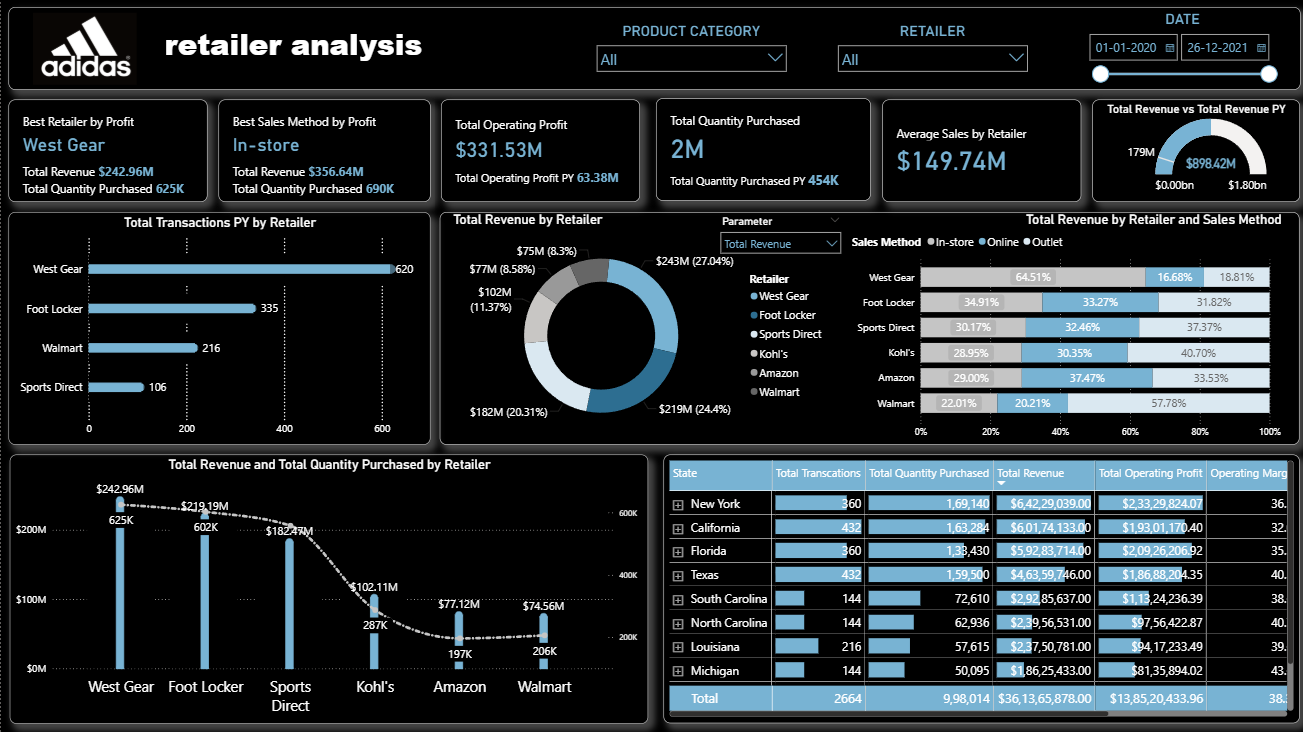

This screenshot's page, from the dashboard's own definition file:
{"tool":"powerbi","page":{"name":"Retailer Analysis Dark","canvas":[1920,1080],"ordinal":9},"visuals":[{"type":"shape","box":[644.3,314.9,1261.8,341.7],"z":0},{"type":"lineStackedColumnComboChart","fields":{"Y":["Measures Table.Total Revenue"],"Y2":["Measures Table.Total Quantity Purchased"],"Category":["Adidas Sales Data.Retailer"]},"box":[12.3,672,936.5,395.2],"z":1000},{"type":"shape","box":[10.3,14.4,1895.7,121.4],"z":2000},{"type":"cardVisual","fields":{"Data":["Min(Adidas Sales Data.Retailer)"]},"box":[10.3,150.3,292.3,150.3],"z":3000},{"type":"cardVisual","fields":{"Data":["Measures Table.Average Sales by Retailer"]},"box":[1293.1,150.4,291.6,150.4],"z":4000},{"type":"gauge","title":"Total Revenue vs Total Revenue PY","fields":{"Y":["Measures Table.Total Revenue"],"TargetValue":["Measures Table.Total Revenue PY"]},"box":[1601.3,150.4,304.5,150.4],"z":5000},{"type":"textbox","box":[234.6,32.9,526.9,88.5],"z":6000},{"type":"slicer","title":"RETAILER","fields":{"Values":["Adidas Sales Data.Retailer"]},"box":[1218.5,37,298.5,82.3],"z":7000},{"type":"slicer","title":"PRODUCT CATEGORY","fields":{"Values":["Adidas Sales Data.Product Category"]},"box":[864.5,37,298.5,82.3],"z":8000},{"type":"slicer","title":"DATE","fields":{"Values":["DateTable.Date"]},"box":[1584.9,20.6,298.5,113.2],"z":9000},{"type":"slicer","fields":{"Values":["Parameter.Parameter"]},"box":[1045.6,314.9,197.6,72],"z":10000},{"type":"donutChart","fields":{"Y":["Measures Table.Total Revenue"],"Category":["Adidas Sales Data.Retailer"]},"box":[658.7,314.9,559.9,341.7],"z":11000},{"type":"cardVisual","fields":{"Data":["Measures Table.Total Quantity Purchased"]},"box":[961.2,148.2,314.9,150.3],"z":12000},{"type":"hundredPercentStackedBarChart","fields":{"Y":["Measures Table.Total Revenue"],"Category":["Adidas Sales Data.Retailer"],"Series":["Adidas Sales Data.Sales Method"]},"box":[1243.2,314.9,640.1,341.7],"z":13000},{"type":"barChart","fields":{"Y":["Measures Table.Total Transactions PY"],"Category":["Adidas Sales Data.Retailer"]},"box":[10.3,314.9,619,341.7],"z":14000},{"type":"cardVisual","fields":{"Data":["Min(Adidas Sales Data.Sales Method)"]},"box":[319,150.3,310.8,150.3],"z":15000},{"type":"pivotTable","title":"Top 10 States by Measures ","fields":{"Rows":["Adidas Sales Data.State","Adidas Sales Data.Retailer","Adidas Sales Data.Sales Method"],"Values":["Measures Table.Total Transcations","Measures Table.Total Quantity Purchased","Measures Table.Total Revenue","Measures Table.Total Operating Profit","Measures Table.Operating Margin %","SparklineData(Measures Table.Total Operating Profit_[DateTable.Year Month])"]},"box":[972.2,671.3,933.6,394.4],"z":16000},{"type":"image","box":[10.3,18.5,224.4,115.3],"z":17000},{"type":"cardVisual","fields":{"Data":["Measures Table.Total Operating Profit"]},"box":[646.3,150.3,292.3,150.3],"z":18000}]}

Visuals, with their boxes in screenshot pixels (x1, y1, x2, y2), scaled from the page's 1920x1080 canvas onto the 1303x732 screenshot:
shape: locate(437, 213, 1294, 445)
lineStackedColumnComboChart - Measures Table.Total Revenue x Measures Table.Total Quantity Purchased: locate(8, 455, 644, 723)
shape: locate(7, 10, 1293, 92)
cardVisual - Min(Adidas Sales Data.Retailer): locate(7, 102, 205, 204)
cardVisual - Measures Table.Average Sales by Retailer: locate(878, 102, 1075, 204)
"Total Revenue vs Total Revenue PY" gauge: locate(1087, 102, 1293, 204)
textbox: locate(159, 22, 517, 82)
"RETAILER" slicer: locate(827, 25, 1030, 81)
"PRODUCT CATEGORY" slicer: locate(587, 25, 789, 81)
"DATE" slicer: locate(1076, 14, 1278, 91)
slicer - Parameter.Parameter: locate(710, 213, 844, 262)
donutChart - Measures Table.Total Revenue x Adidas Sales Data.Retailer: locate(447, 213, 827, 445)
cardVisual - Measures Table.Total Quantity Purchased: locate(652, 100, 866, 202)
hundredPercentStackedBarChart - Measures Table.Total Revenue x Adidas Sales Data.Retailer: locate(844, 213, 1278, 445)
barChart - Measures Table.Total Transactions PY x Adidas Sales Data.Retailer: locate(7, 213, 427, 445)
cardVisual - Min(Adidas Sales Data.Sales Method): locate(216, 102, 427, 204)
"Top 10 States by Measures " pivotTable: locate(660, 455, 1293, 722)
image: locate(7, 13, 159, 91)
cardVisual - Measures Table.Total Operating Profit: locate(439, 102, 637, 204)
